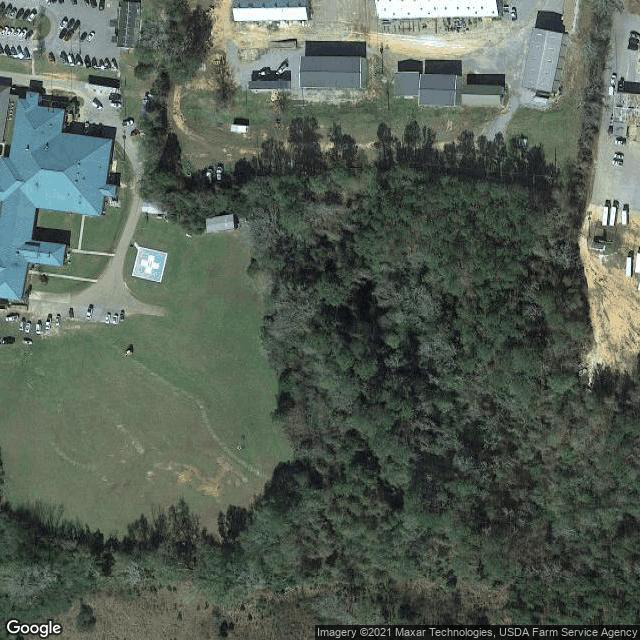Helipad: (133, 243, 169, 284)
